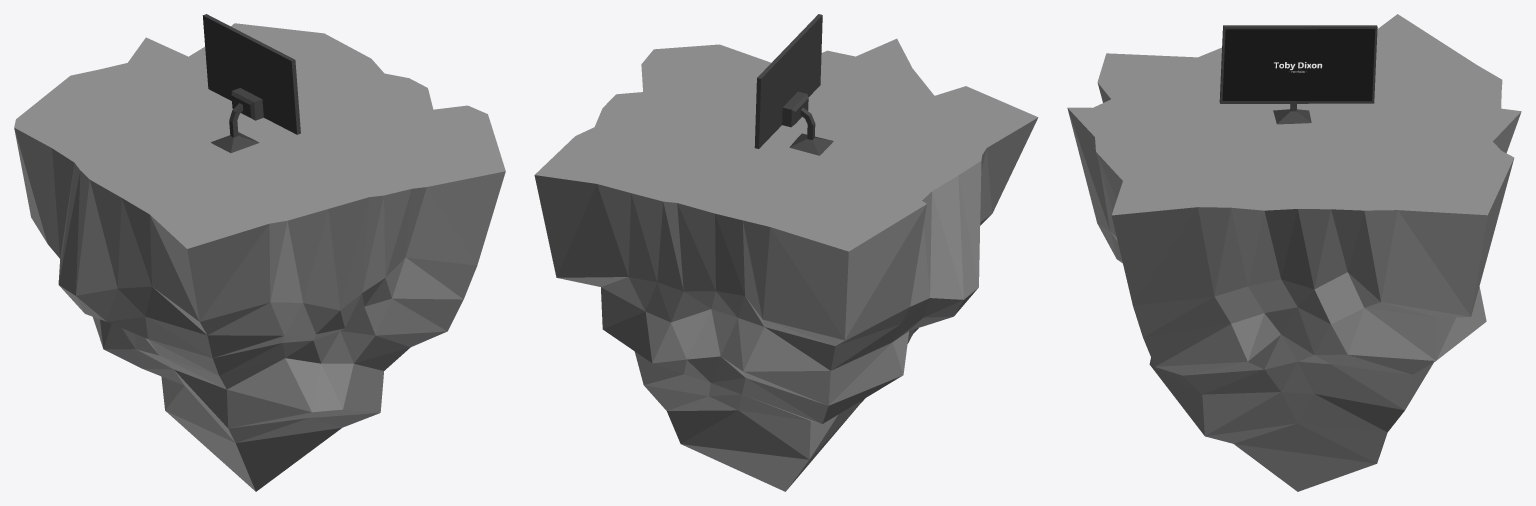
The model's file is screen_1.glb.
The picture shows the model from 3 angles, left to right: view 1: azimuth 30°, elevation 25°; view 2: azimuth 150°, elevation 25°; view 3: azimuth 270°, elevation 25°; orthographic projection. The views are drawn at different scales.
Parts seen in each view (by area): view 1: Base.001; view 2: Base.001; view 3: Base.001.
Boxes of the visible parts, bbox=[...] form: Base.001: bbox=[14, 14, 505, 491]; Base.001: bbox=[534, 14, 1038, 491]; Base.001: bbox=[1067, 14, 1521, 491].
Bounding box in the file's own units: 3.31 × 3.86 × 3.41.
Materials: 3 (1 with a texture image).
